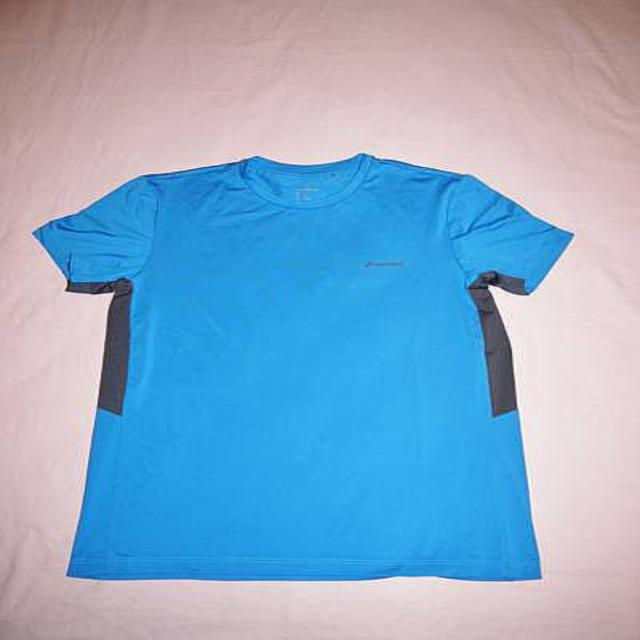T_SHIRT: (23, 136, 593, 594)
